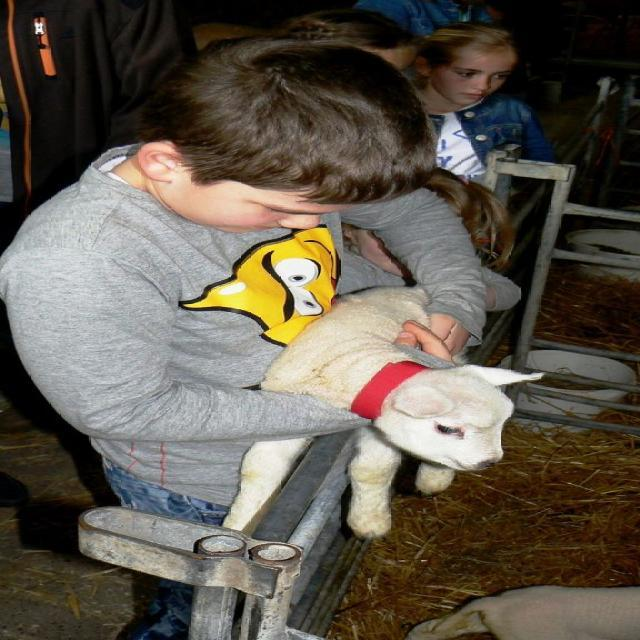Goat: (218, 284, 544, 540)
